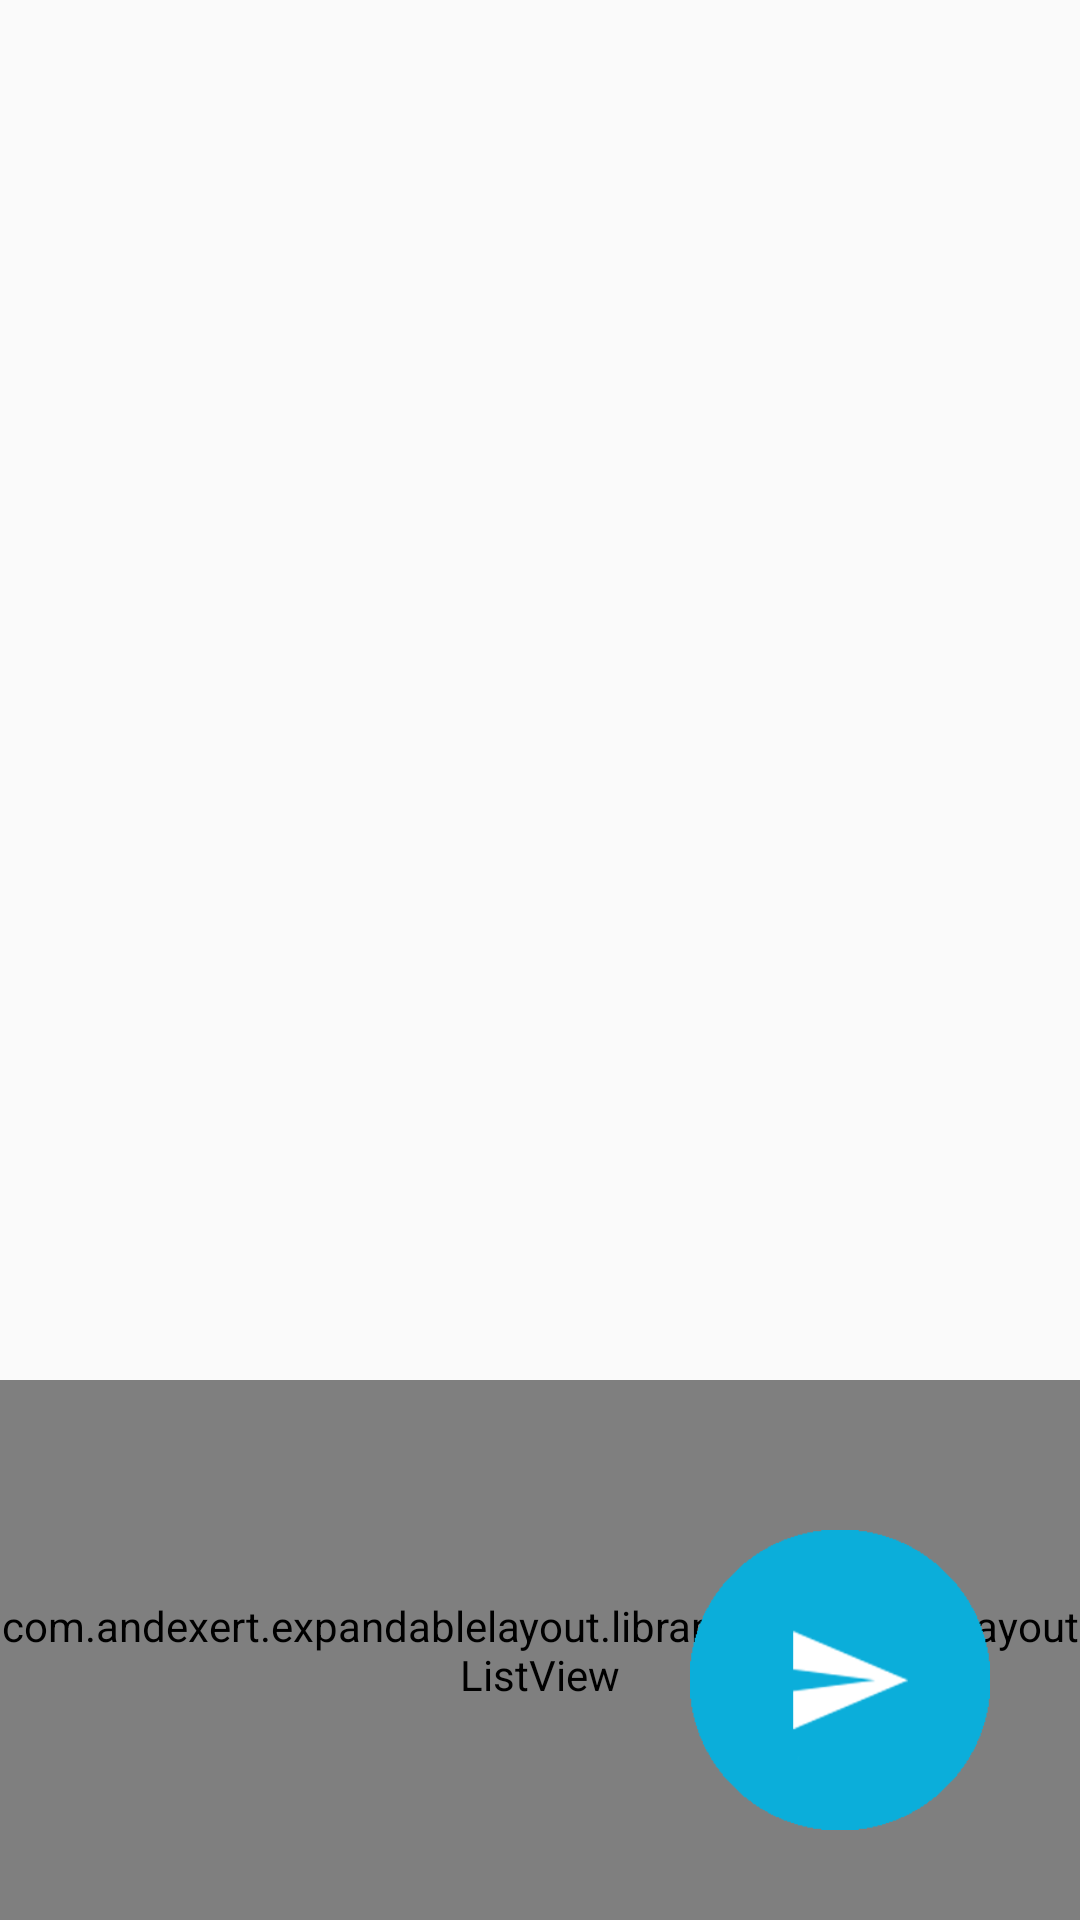

Screen size 1080*1920. Icon name, then its center in pixels as [x,y]:
send mail: [840,1680]
